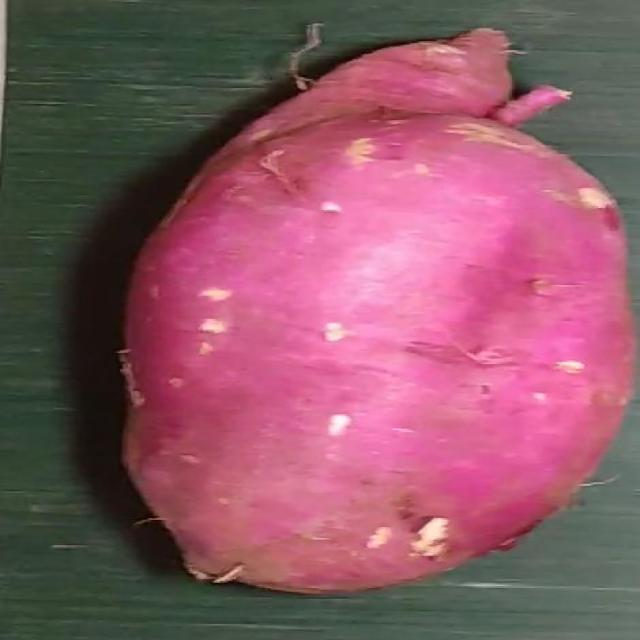Sweet Potato: (121, 28, 635, 596)
